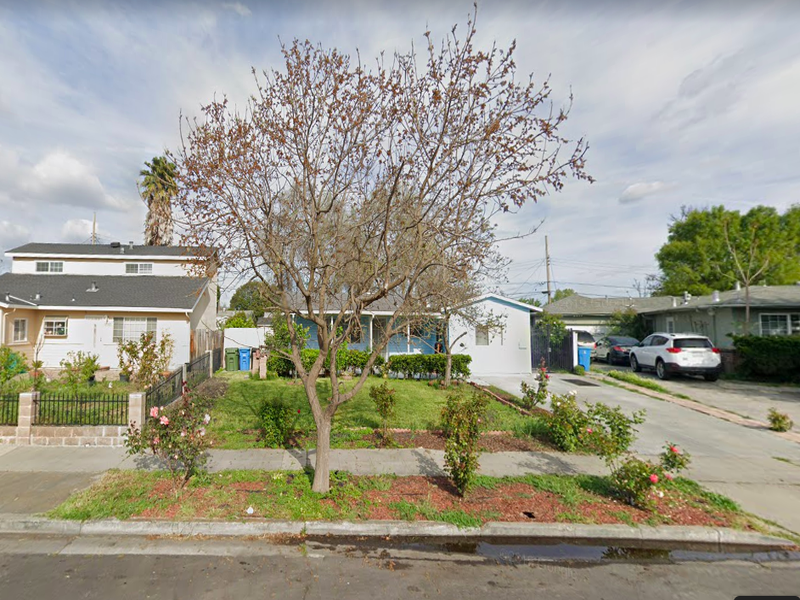tree: (153, 4, 597, 497)
